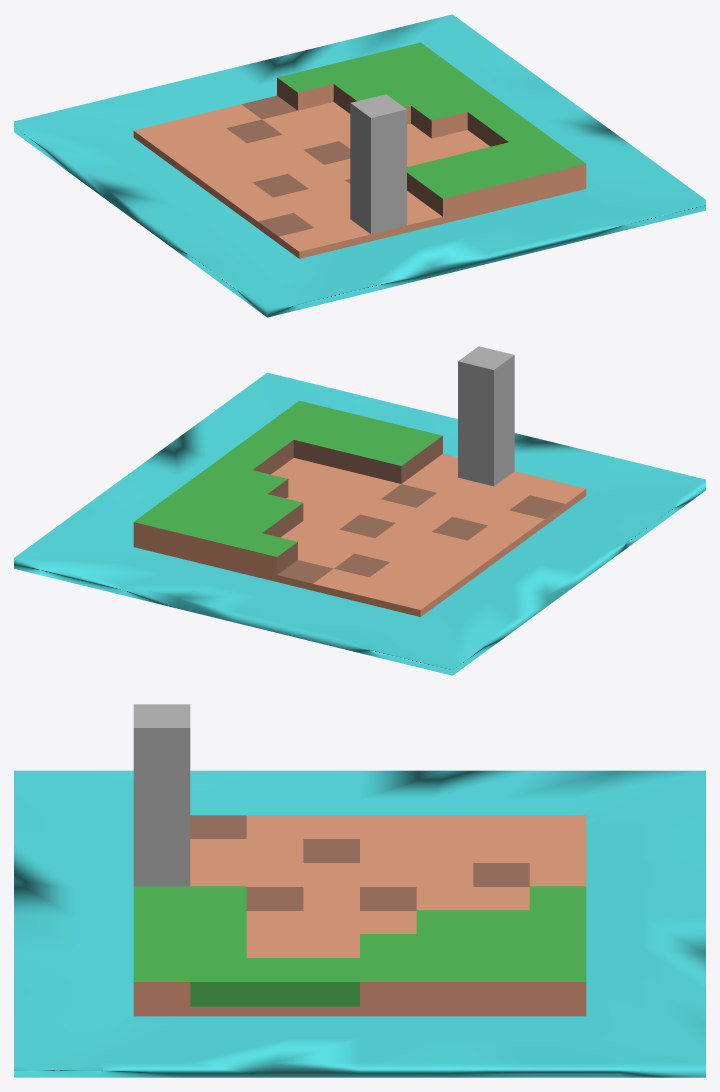
Rendered from Escena.fbx.
3 views of the same model, one above another, from view 1: azimuth 30°, elevation 25°; view 2: azimuth 150°, elevation 25°; view 3: azimuth 270°, elevation 25° (orthographic). The views are drawn at different scales.
Visible parts, largest first — view 1: Cube.001; view 2: Cube.001; view 3: Cube.001.
Part boxes in pixels (<box>): Cube.001: <box>14,14,705,317</box>; Cube.001: <box>14,346,705,675</box>; Cube.001: <box>14,704,705,1077</box>.
Bounding box in the file's own units: 1067 × 306 × 1067.
